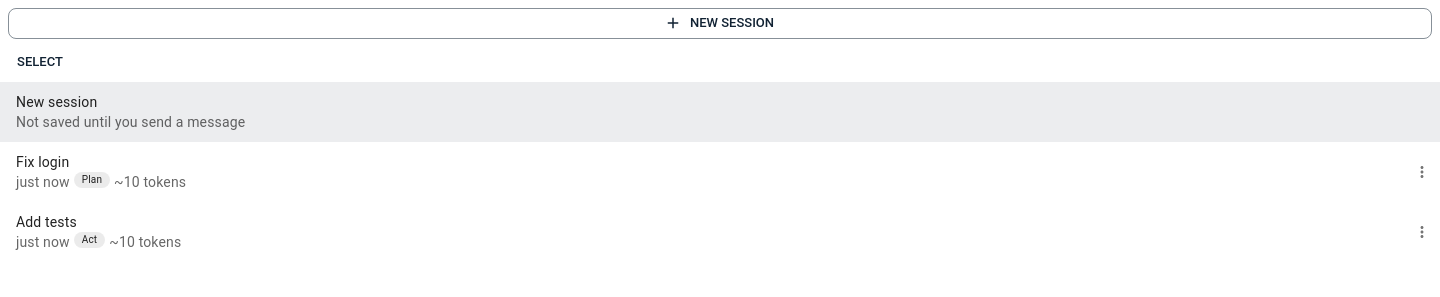
Scenario: managing the session list › Delete all sends all, and says when a running session was kept
Click the button "Select" at (40, 62), box [8,47,72,78]
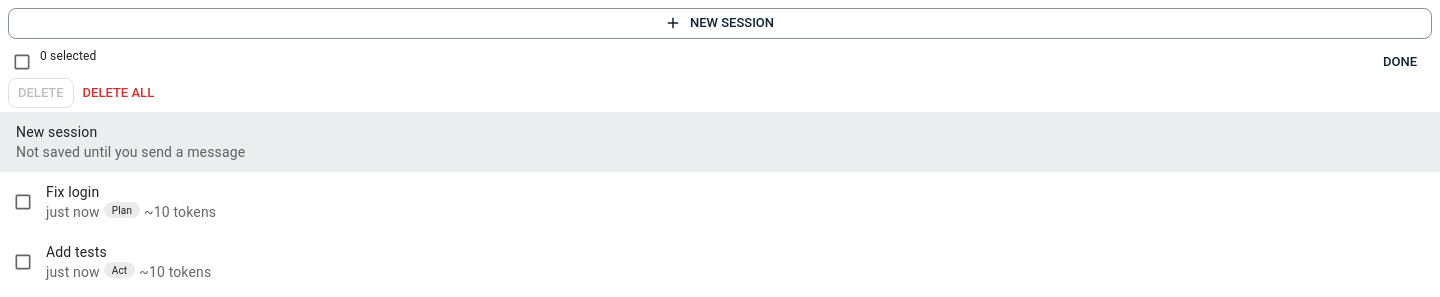
Click the button "Delete all" at (118, 93), box [78,78,159,108]
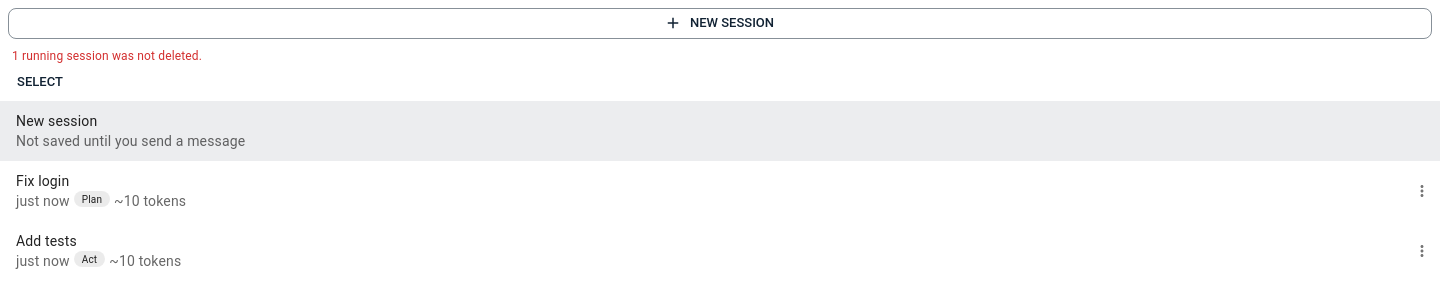
Result: the text "1 running session was not deleted." is shown at [12,49,202,63]
